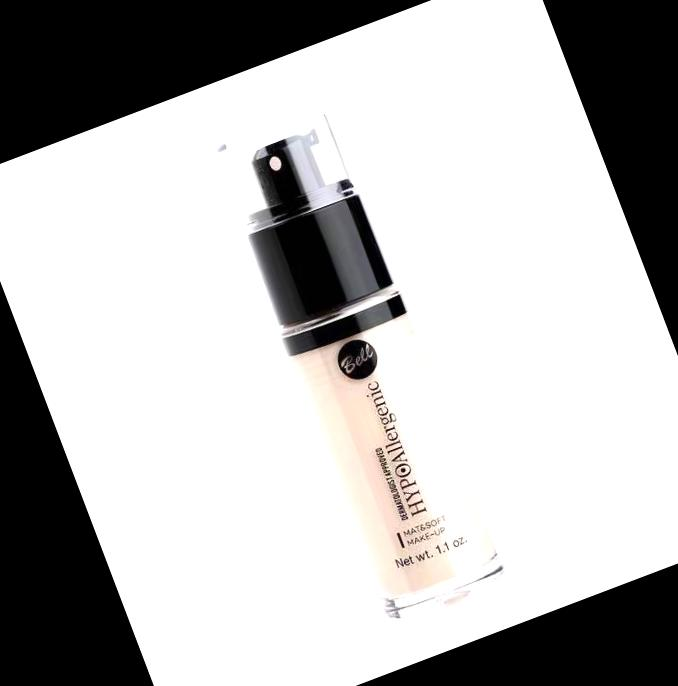cosmetic: (209, 102, 510, 627)
